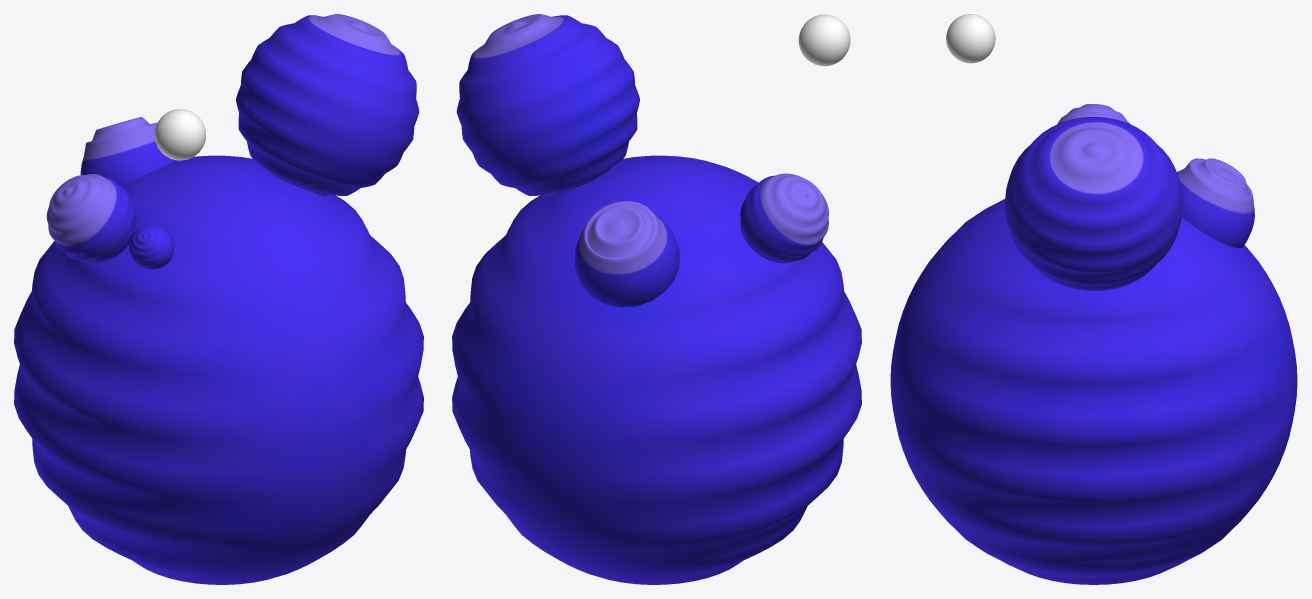
File: particula.fbx
The picture shows the model from 3 angles, left to right: view 1: azimuth 30°, elevation 25°; view 2: azimuth 150°, elevation 25°; view 3: azimuth 270°, elevation 25°; orthographic projection. The views are drawn at different scales.
Visible parts, largest first — view 1: Particula; view 2: Particula; view 3: Particula.
Boxes of the visible parts, bbox=[...] form: Particula: bbox=[14, 14, 423, 584]; Particula: bbox=[452, 14, 861, 584]; Particula: bbox=[890, 14, 1297, 584].
Bounding box in the file's own units: 2.72 × 3.77 × 2.76.
1 material, 1 textured.
